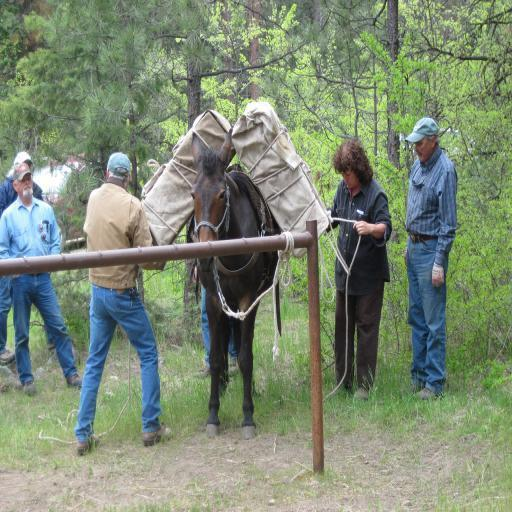horse: (188, 129, 278, 441)
